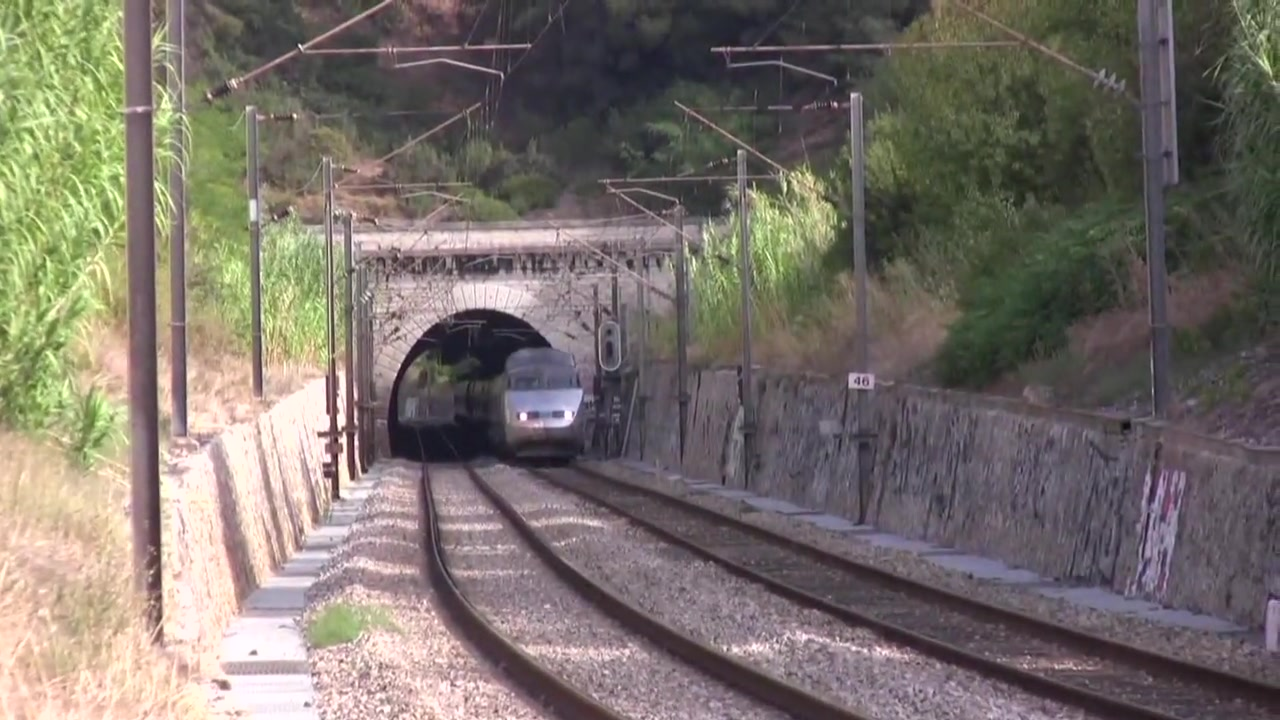train: (420, 343, 593, 468)
